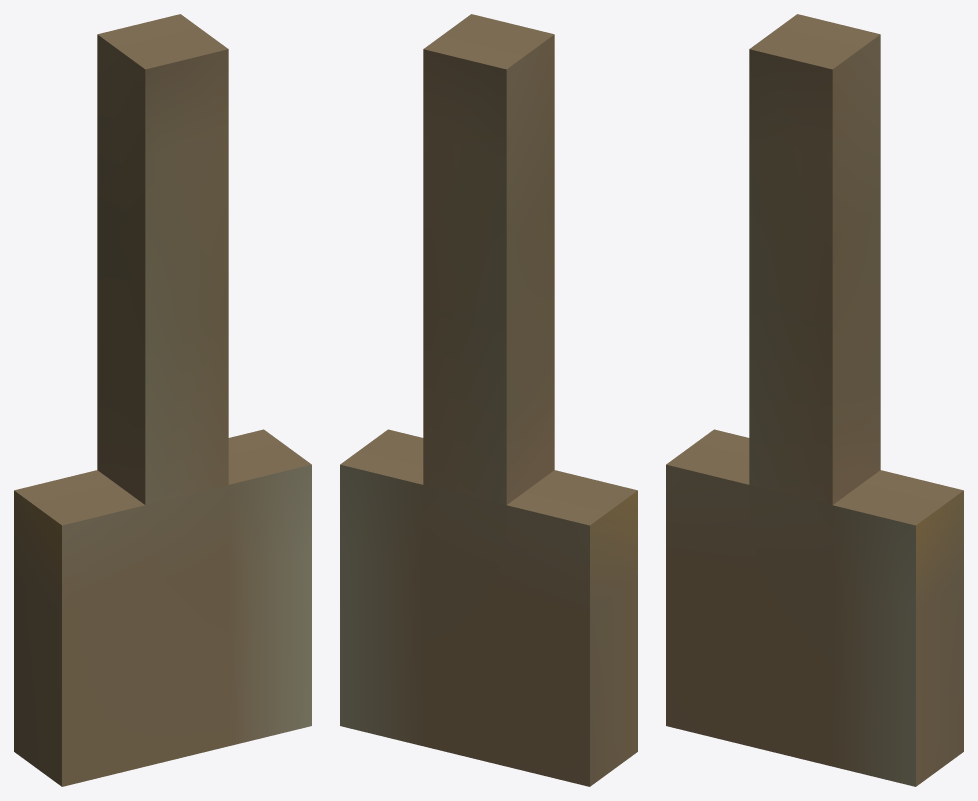
Rendered from SoupLadle_A_00.obj.
3 views of the same model, side by side, from view 1: azimuth 30°, elevation 25°; view 2: azimuth 150°, elevation 25°; view 3: azimuth 330°, elevation 25° (orthographic).
Visible parts, largest first — view 1: SoupLadle_A_00; view 2: SoupLadle_A_00; view 3: SoupLadle_A_00.
Part boxes in pixels (x1,y1,x2,y2): SoupLadle_A_00: [14, 14, 311, 786]; SoupLadle_A_00: [340, 14, 637, 786]; SoupLadle_A_00: [666, 14, 963, 786].
Bounding box in the file's own units: 0.15 × 0.4 × 0.05.
